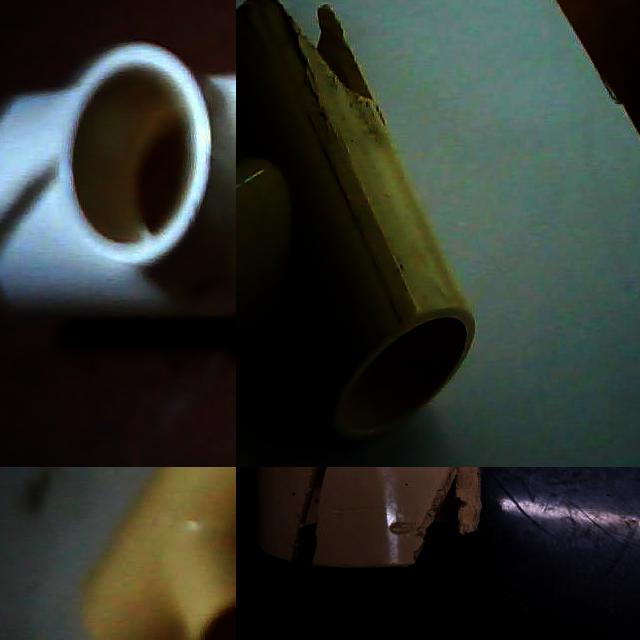Defective: (270, 0, 378, 104), (422, 467, 492, 597), (0, 136, 54, 287), (286, 467, 341, 578)
T Joint: (236, 0, 476, 445), (0, 42, 236, 332), (81, 467, 236, 640), (255, 467, 482, 572)
